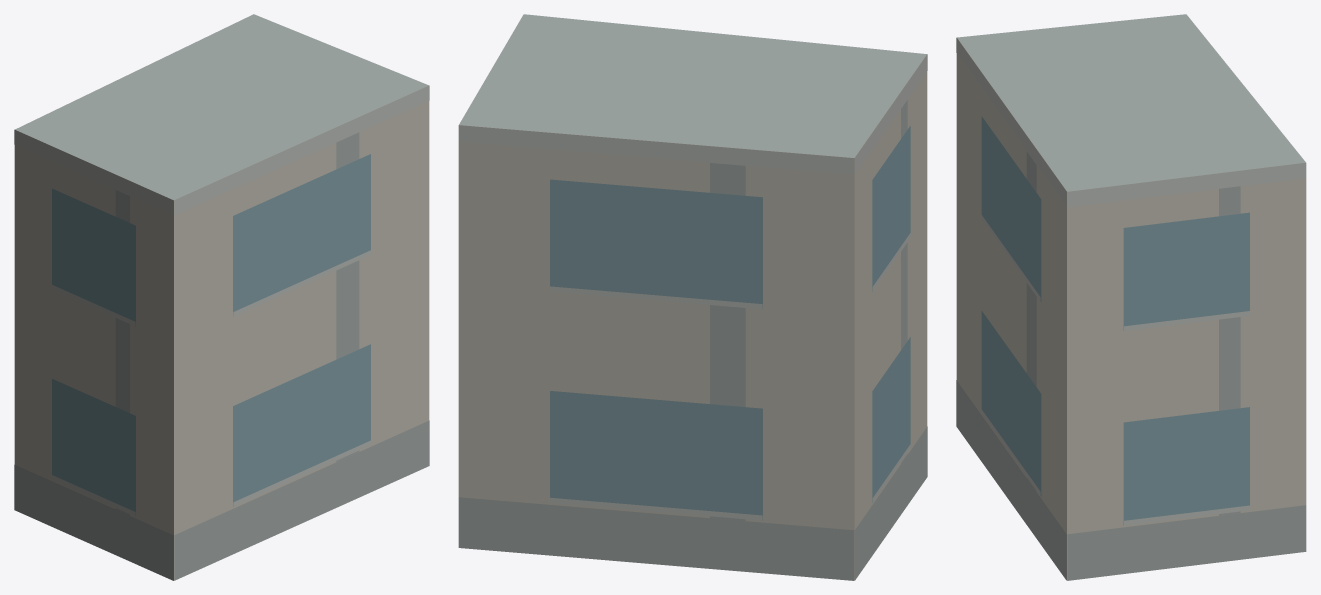
Rendered from survey-upis-32931329.glb.
3 renders of one model, left to right at view 1: azimuth 30°, elevation 25°; view 2: azimuth 150°, elevation 25°; view 3: azimuth 270°, elevation 25°, orthographic. The views are drawn at different scales.
Visible parts, largest first — view 1: survey-upis-32931329.tmp; view 2: survey-upis-32931329.tmp; view 3: survey-upis-32931329.tmp.
Boxes of the visible parts, box(x1,y1,x2,y2) form: survey-upis-32931329.tmp: box(14, 14, 429, 580); survey-upis-32931329.tmp: box(458, 14, 927, 580); survey-upis-32931329.tmp: box(956, 14, 1306, 580).
Size of the model in its own units: 5.99 by 6.1 by 4.98.
